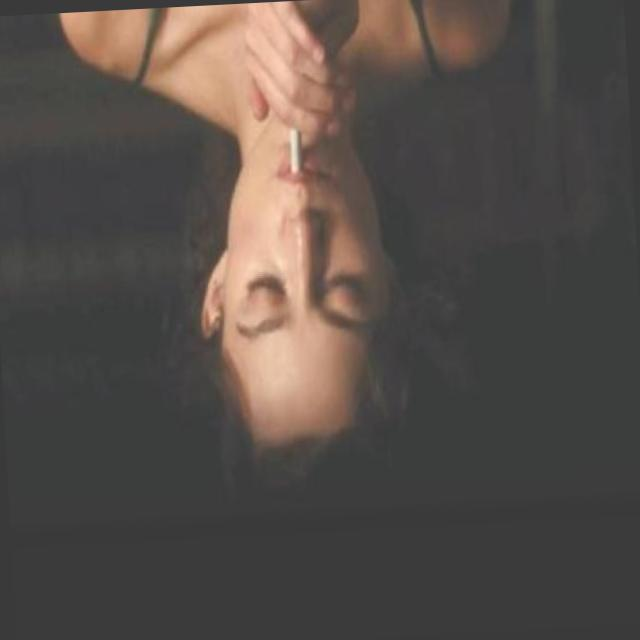smoke: (288, 128, 299, 174)
